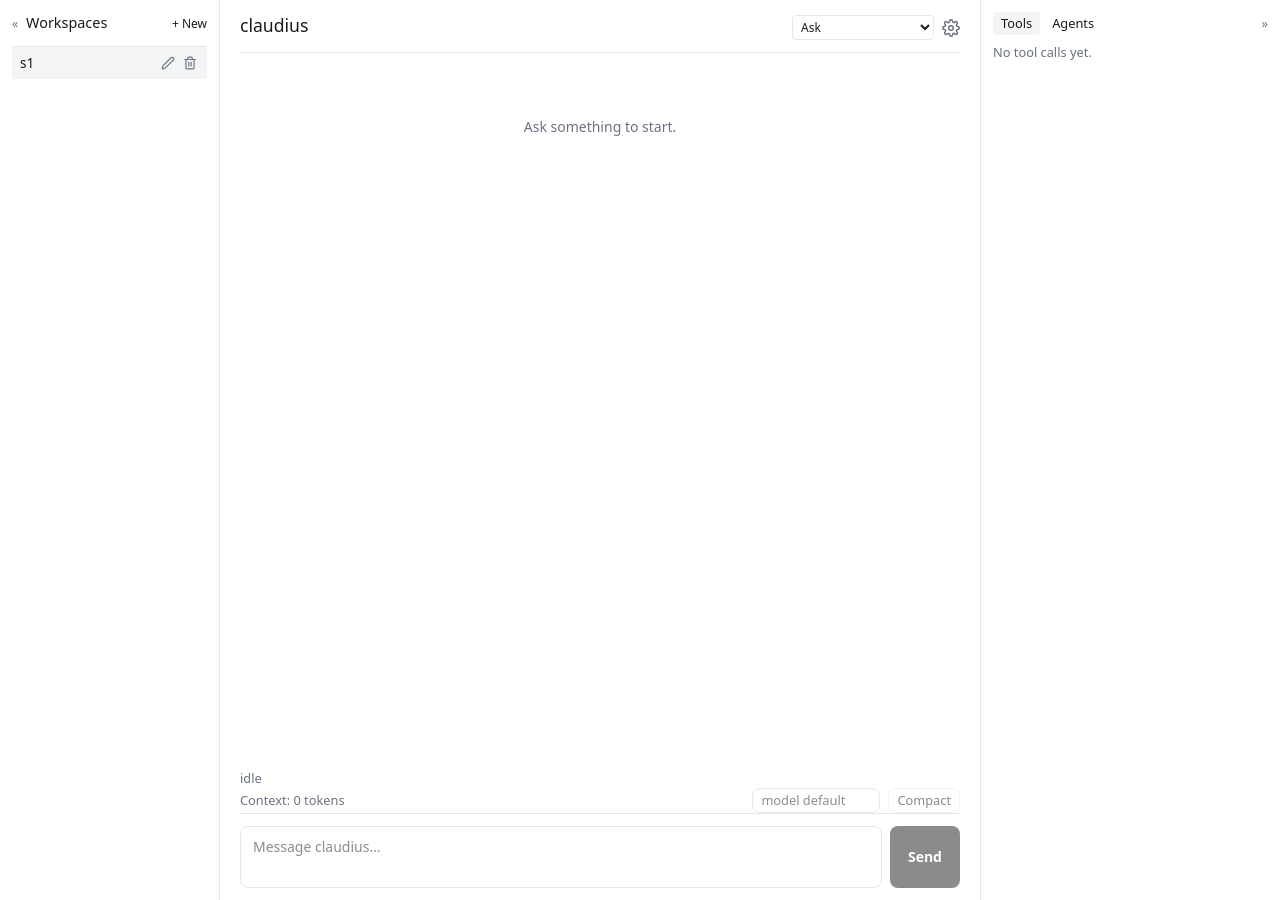
Test: App › sends a message and renders the streamed assistant reply
Type "hello" into the text box with placeholder "Message claudius…" at (561, 857), box x1=240 y1=826 x2=882 y2=888
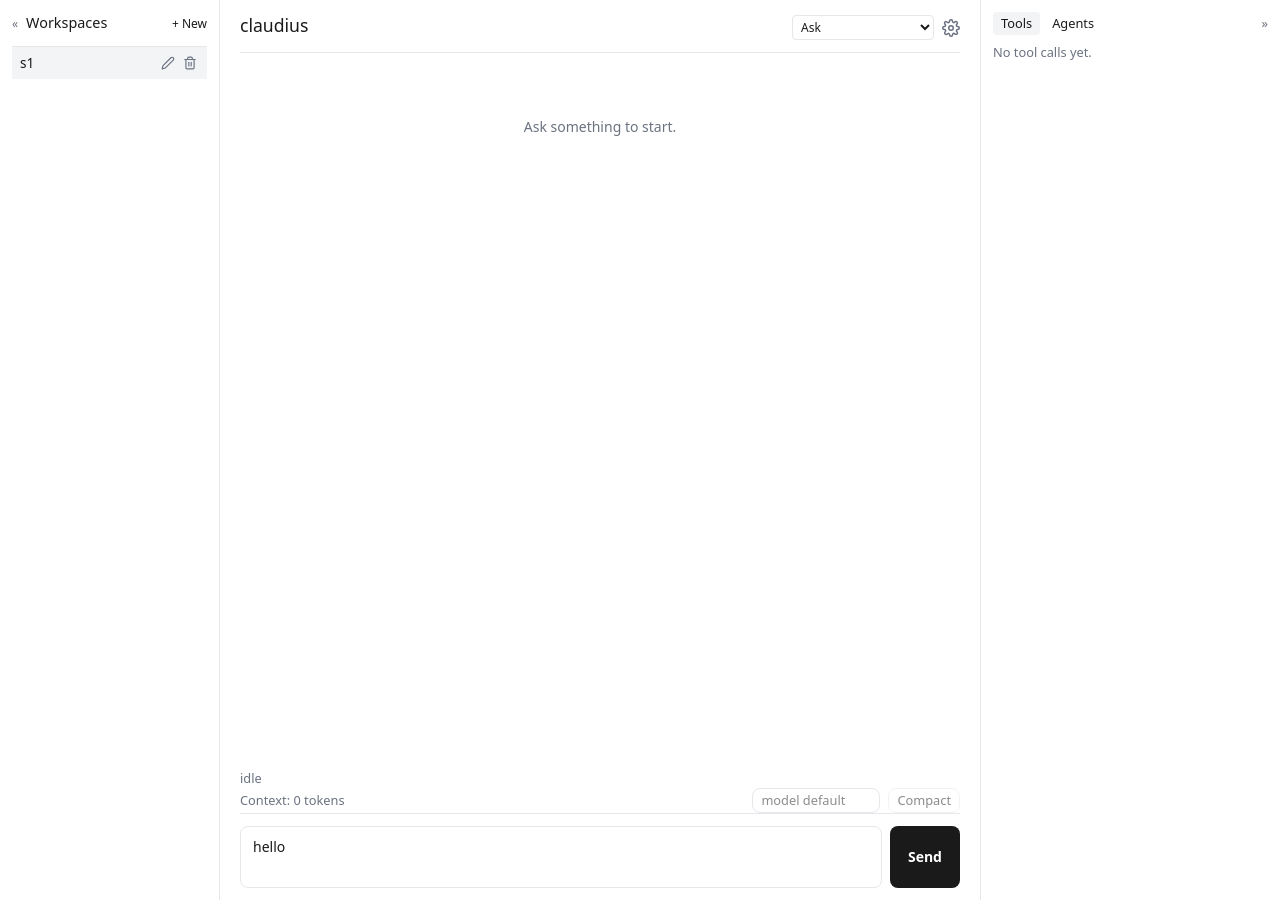
Press Enter in the text box named "Message claudius", box x1=240 y1=826 x2=882 y2=888
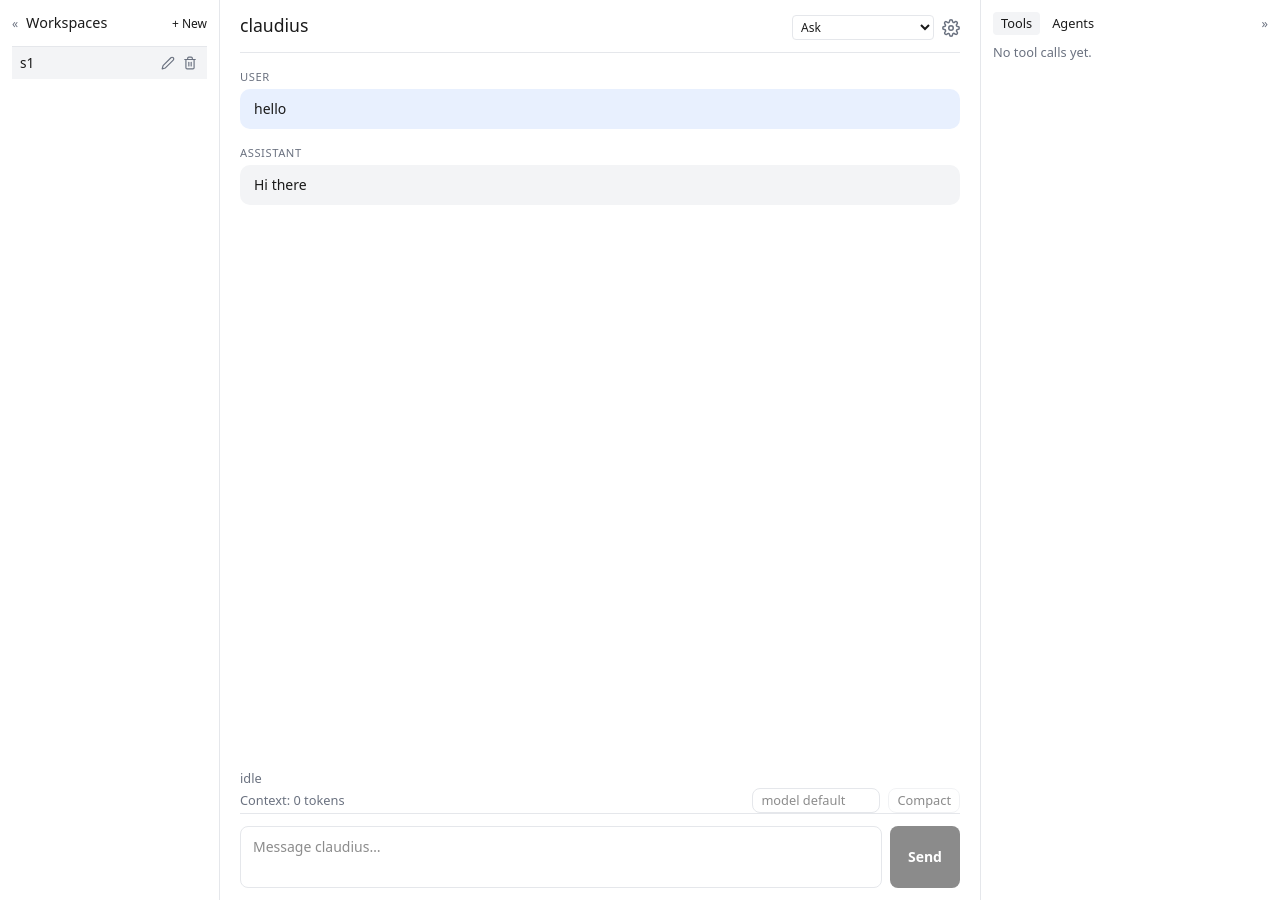
Expected: the text "idle" is shown, x1=240 y1=769 x2=262 y2=787
Now the text "Hi there" is shown, box x1=254 y1=175 x2=307 y2=194
